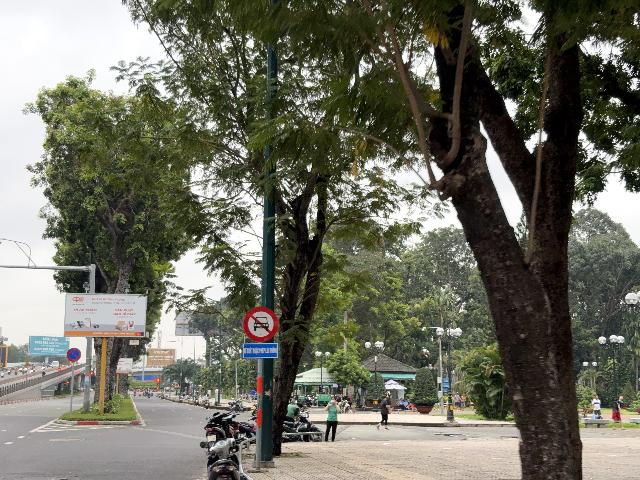cam-o-to: (244, 307, 278, 342)
